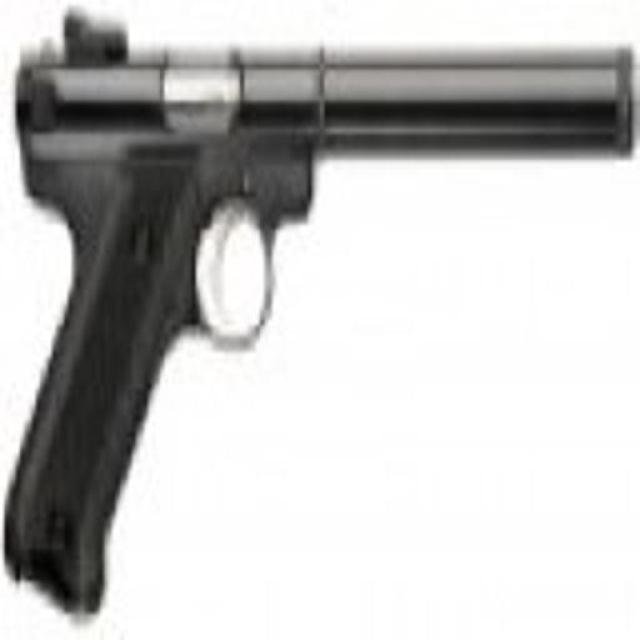pistol: (24, 15, 628, 602)
